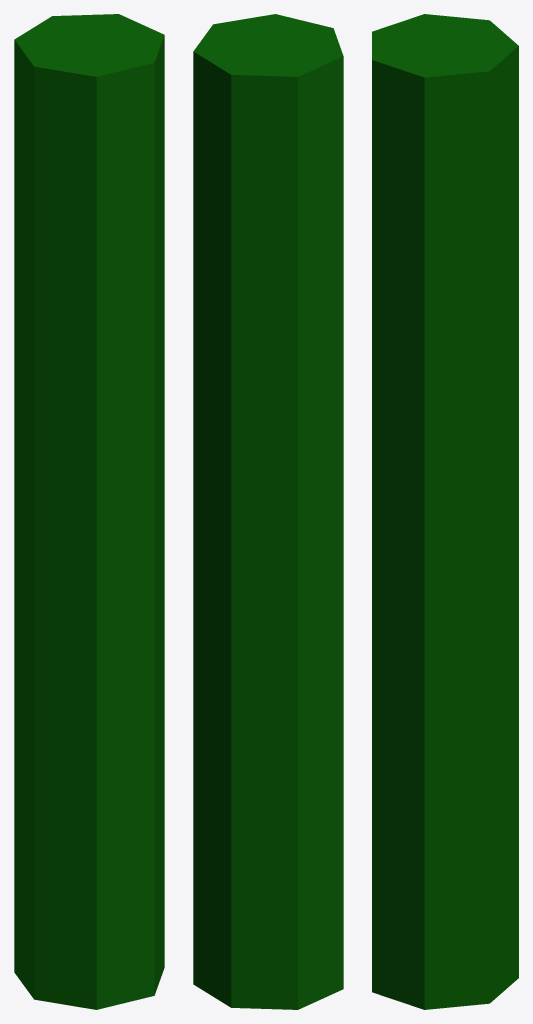
Rendered from bamboo.fbx.
The picture shows the model from 3 angles, left to right: view 1: azimuth 30°, elevation 25°; view 2: azimuth 150°, elevation 25°; view 3: azimuth 270°, elevation 25°; orthographic projection.
Parts seen in each view (by area): view 1: Cylinder; view 2: Cylinder; view 3: Cylinder.
Part boxes in pixels (x1,y1,x2,y2): Cylinder: [14, 14, 164, 1009]; Cylinder: [193, 14, 343, 1009]; Cylinder: [372, 14, 518, 1009].
Size of the model in its own units: 0.585 by 4 by 0.5703.
